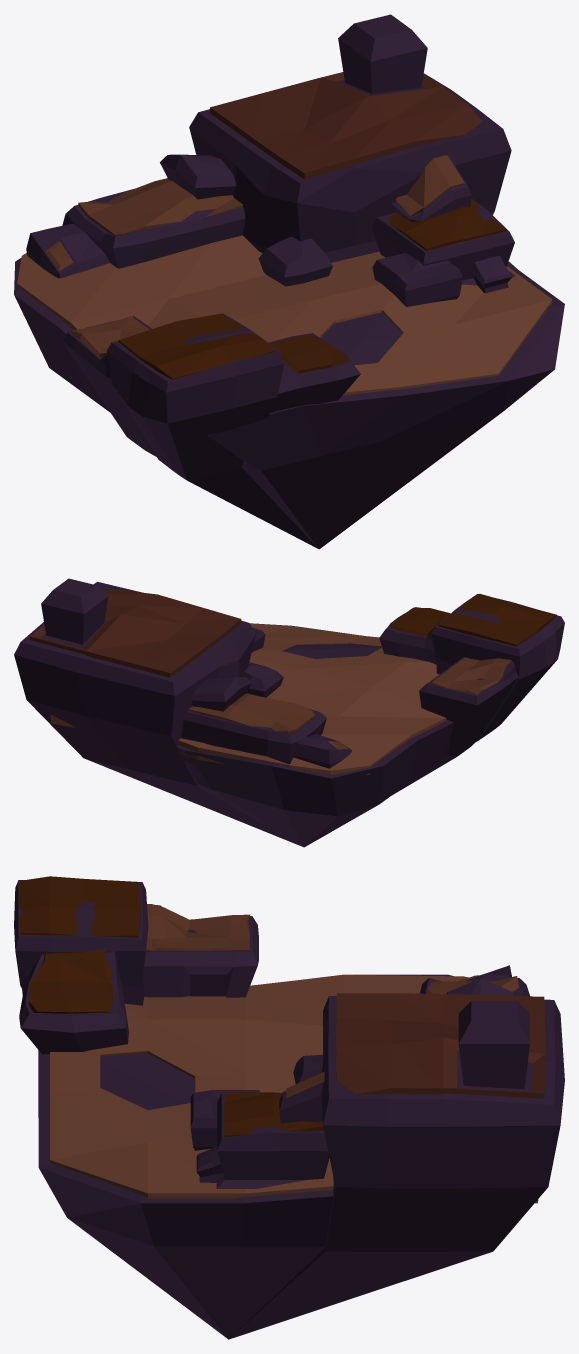
Rendered from Ilha_2.fbx.
3 renders of one model, top to bottom at view 1: azimuth 30°, elevation 25°; view 2: azimuth 150°, elevation 25°; view 3: azimuth 270°, elevation 25°, orthographic. The views are drawn at different scales.
Visible parts, largest first — view 1: Ilha 2; view 2: Ilha 2; view 3: Ilha 2.
Boxes of the visible parts, left/top/right/bottom form: Ilha 2: left=14, top=14, right=564, bottom=549; Ilha 2: left=14, top=578, right=564, bottom=847; Ilha 2: left=14, top=876, right=564, bottom=1339.
Size of the model in its own units: 240 by 180 by 210.
